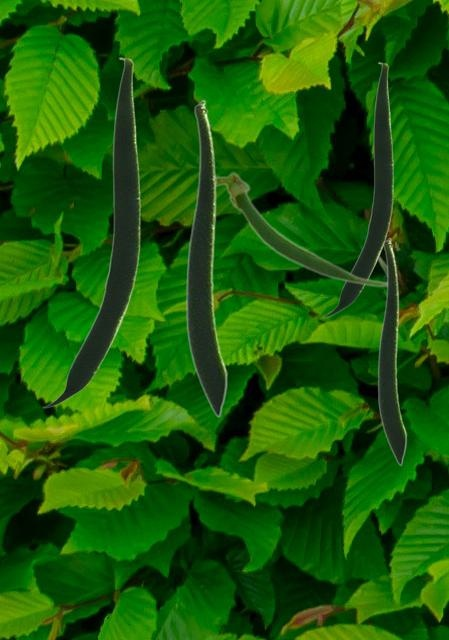french_bean: (42, 57, 139, 407), (217, 170, 385, 287), (322, 62, 392, 316), (185, 99, 227, 417), (377, 237, 406, 465)
